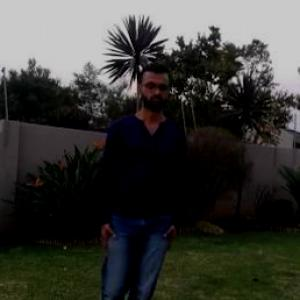follow: (102, 59, 176, 299)
